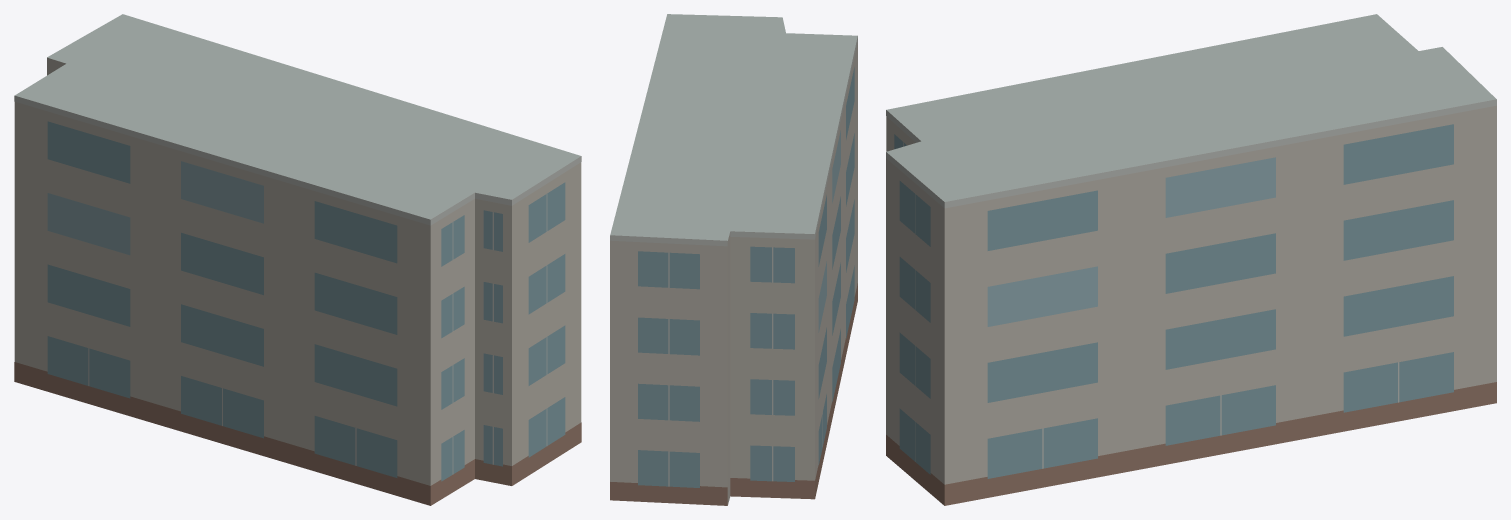
Rendered from survey-upis-32748287.glb.
3 renders of one model, left to right at view 1: azimuth 30°, elevation 25°; view 2: azimuth 150°, elevation 25°; view 3: azimuth 270°, elevation 25°, orthographic. The views are drawn at different scales.
Parts seen in each view (by area): view 1: survey-upis-32748287.tmp; view 2: survey-upis-32748287.tmp; view 3: survey-upis-32748287.tmp.
Boxes of the visible parts, <box> form: survey-upis-32748287.tmp: <box>14,14,581,505</box>; survey-upis-32748287.tmp: <box>610,14,857,505</box>; survey-upis-32748287.tmp: <box>886,14,1496,505</box>.
Size of the model in its own units: 15.55 by 11.7 by 21.33.
